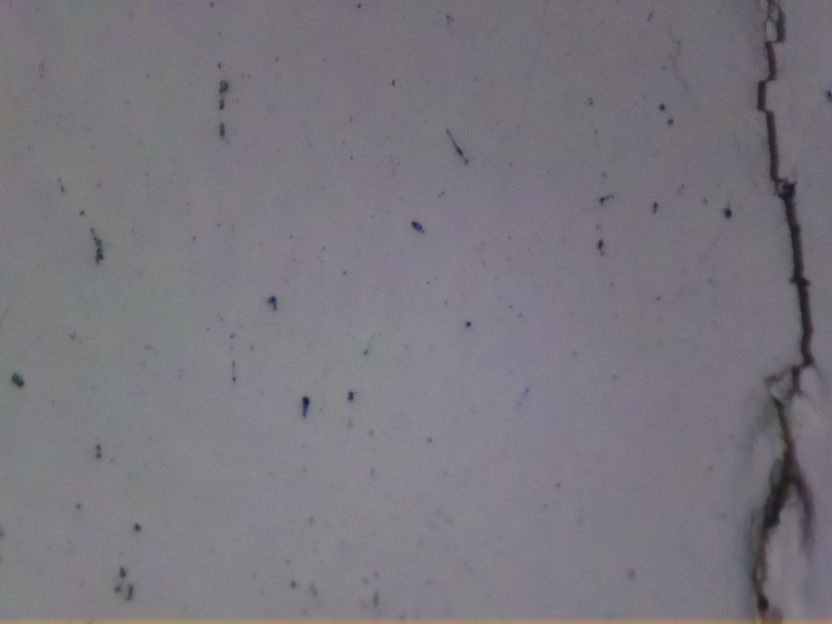crack: (740, 0, 819, 624)
